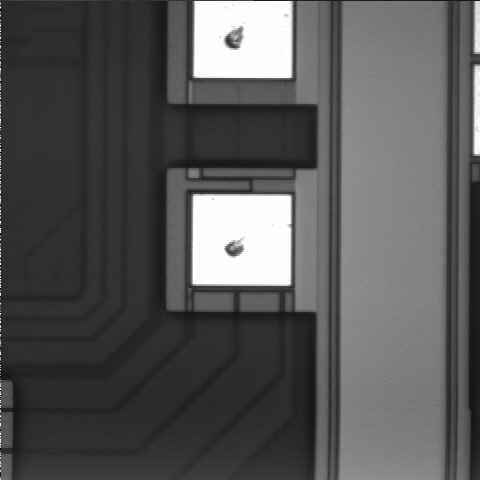pad: (193, 195, 291, 286)
